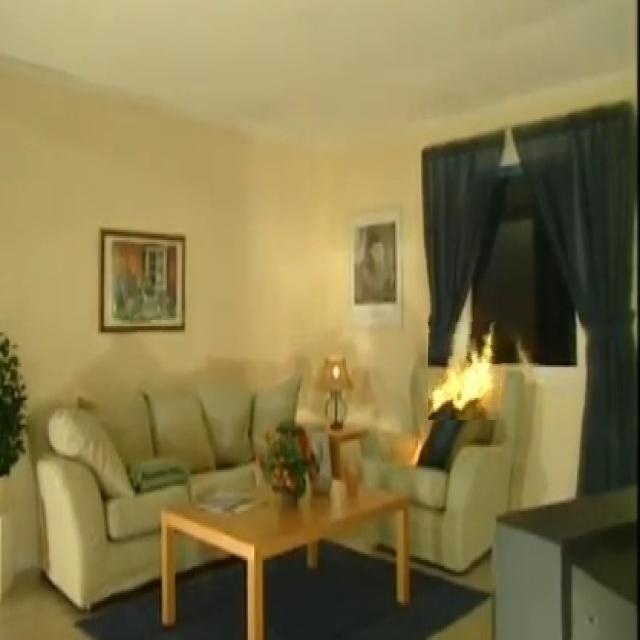fire: (432, 331, 517, 409)
